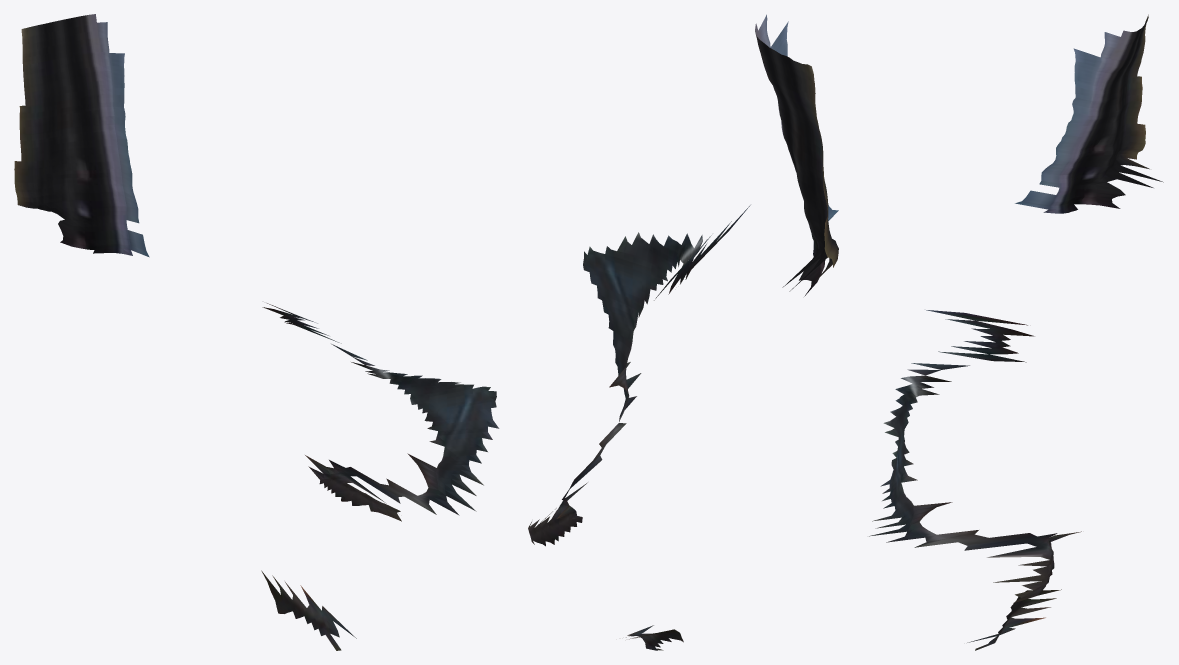
Rendered from observed-surface.glb.
3 views of the same model, side by side, from view 1: azimuth 30°, elevation 25°; view 2: azimuth 150°, elevation 25°; view 3: azimuth 270°, elevation 25° (orthographic). The views are drawn at different scales.
Parts seen in each view (by area): view 1: geometry_0; view 2: geometry_0; view 3: geometry_0.
Part boxes in pixels (left/top/right/bottom): geometry_0: left=14, top=14, right=499, bottom=650; geometry_0: left=528, top=14, right=838, bottom=650; geometry_0: left=869, top=14, right=1163, bottom=650.
Bounding box in the file's own units: 0.3876 × 0.6661 × 0.3273.
Materials: 1 (1 with a texture image).
